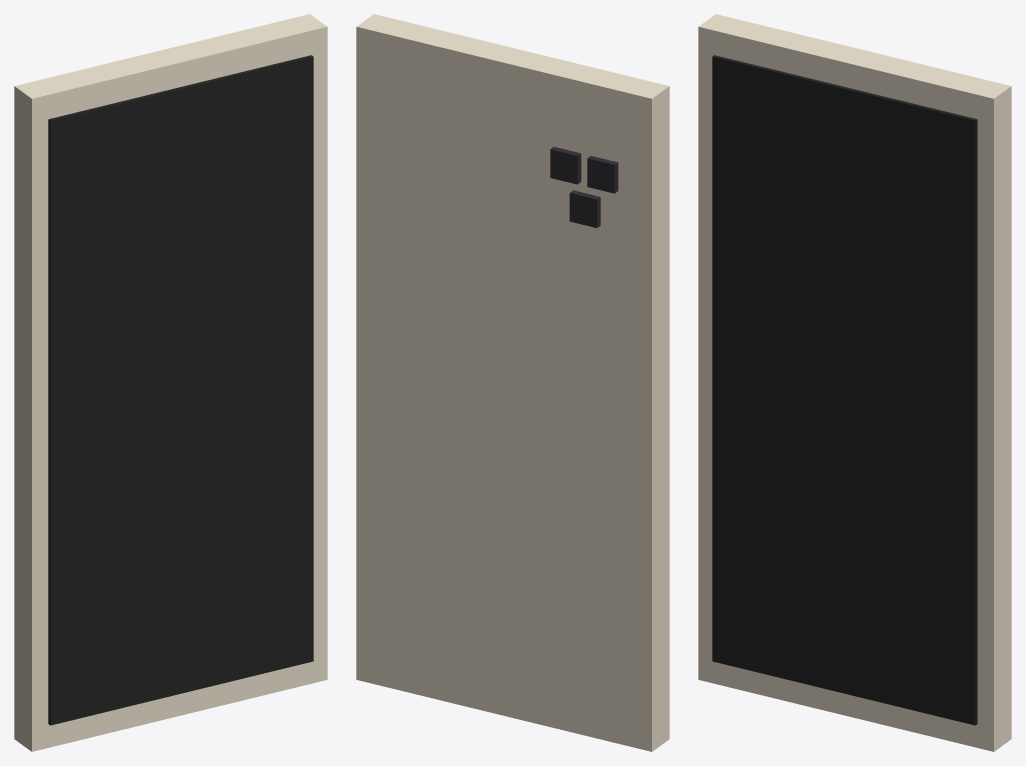
The model's file is iphone-11-pro.glb.
3 renders of one model, left to right at view 1: azimuth 30°, elevation 25°; view 2: azimuth 150°, elevation 25°; view 3: azimuth 330°, elevation 25°, orthographic.
Parts seen in each view (by area): view 1: tela, corpo; view 2: corpo, lente-0, lente-1, lente-2; view 3: tela, corpo.
Boxes of the visible parts, x1,y1,x2,y2 form: tela: (48,55,313,725); corpo: (14,14,327,751); corpo: (356,14,669,751); lente-0: (587,156,618,193); lente-1: (550,147,581,184); lente-2: (569,190,600,227); tela: (712,55,977,725); corpo: (698,14,1011,751).
Size of the model in its own units: 0.7565 by 1.6 by 0.1038.
